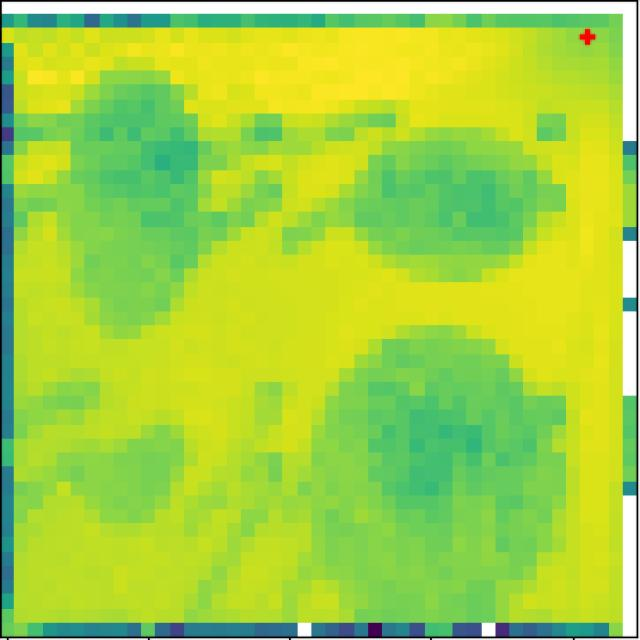Concrete: (374, 140, 536, 266)
Glass: (77, 84, 198, 310)
Metal: (333, 353, 540, 578)
Wood: (83, 432, 180, 529)
